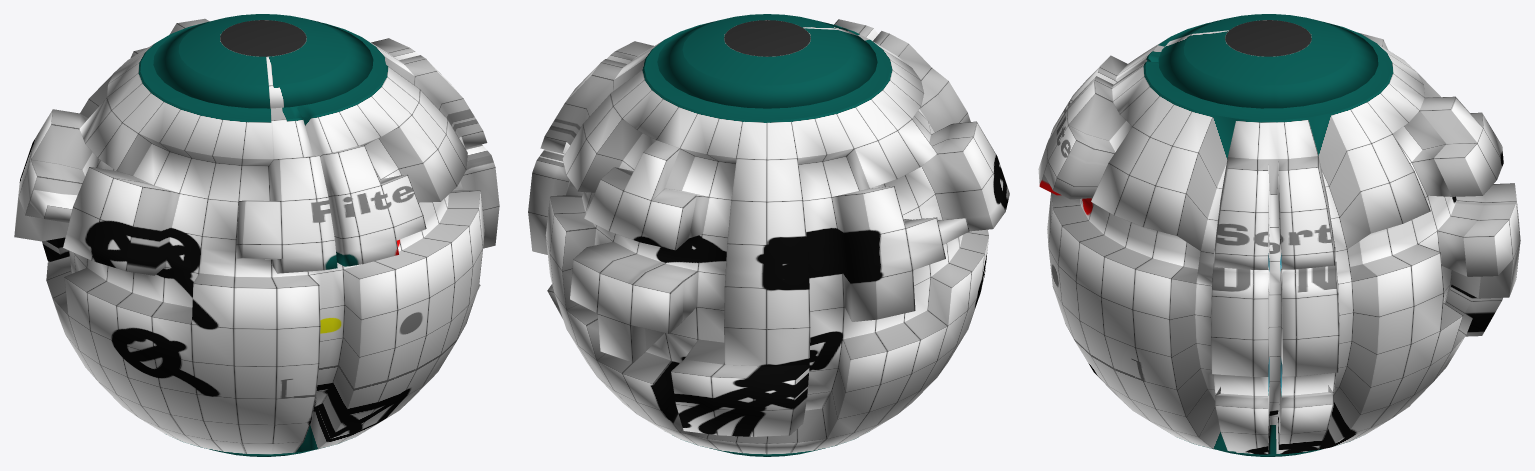
Rendered from RemoteControlBall.fbx.
3 views of the same model, side by side, from view 1: azimuth 30°, elevation 25°; view 2: azimuth 150°, elevation 25°; view 3: azimuth 270°, elevation 25° (orthographic).
Parts seen in each view (by area): view 1: Sphere; view 2: Sphere; view 3: Sphere.
Boxes of the visible parts, left/top/right/bottom form: Sphere: left=14, top=14, right=499, bottom=456; Sphere: left=528, top=14, right=1009, bottom=456; Sphere: left=1038, top=14, right=1520, bottom=456.
Size of the model in its own units: 2.22 by 1.96 by 2.17.
